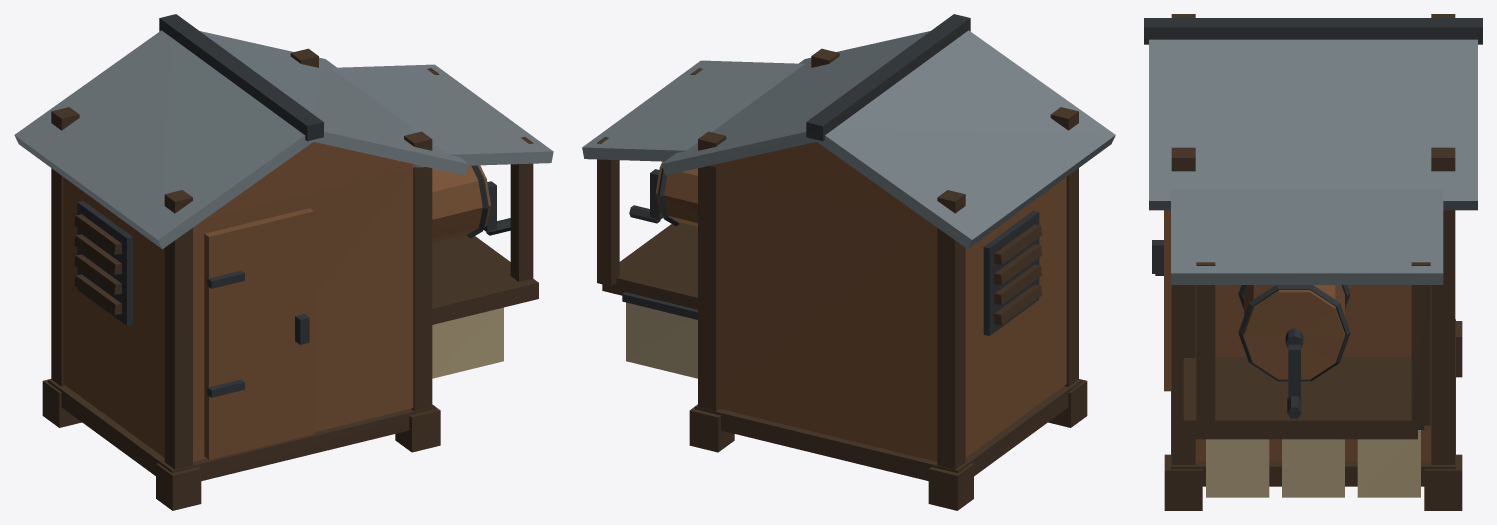
File: seed-house.source.glb
3 renders of one model, left to right at view 1: azimuth 30°, elevation 25°; view 2: azimuth 150°, elevation 25°; view 3: azimuth 270°, elevation 25°, orthographic. The views are drawn at different scales.
Parts seen in each view (by area): view 1: seed-house-left-roof-panel-mesh, seed-house-front-wall-mesh, seed-house-front-door-leaf-mesh, seed-house-left-wall-mesh, seed-house-service-awning-mesh, seed-house-right-roof-panel-mesh, seed-house-floor-mesh, seed-house-front-left-post-mesh, seed-house-loading-shelf-mesh, seed-house-front-gable-mesh, seed-house-front-right-post-mesh, seed-house-roof-ridge-mesh (+12 smaller); view 2: seed-house-rear-wall-mesh, seed-house-left-roof-panel-mesh, seed-house-left-wall-mesh, seed-house-service-awning-mesh, seed-house-right-roof-panel-mesh, seed-house-floor-mesh, seed-house-rear-left-post-mesh, seed-house-rear-gable-mesh, seed-house-loading-shelf-mesh, seed-house-rear-right-post-mesh, seed-house-roof-ridge-mesh, seed-house-seed-bin-1-mesh (+12 smaller); view 3: seed-house-right-roof-panel-mesh, seed-house-service-awning-mesh, seed-house-loading-shelf-mesh, seed-house-right-wall-mesh, seed-house-roof-ridge-mesh, seed-house-cleaner-drum-shell-mesh, seed-house-rear-right-post-mesh, seed-house-front-right-post-mesh, seed-house-seed-bin-1-mesh, seed-house-seed-bin-3-mesh, seed-house-seed-bin-2-mesh, seed-house-awning-support-rear-mesh (+9 smaller).
Part boxes in pixels (x1,y1,x2,y2): seed-house-left-roof-panel-mesh: (14,30,316,249); seed-house-front-wall-mesh: (193,168,413,461); seed-house-front-door-leaf-mesh: (204,208,314,459); seed-house-left-wall-mesh: (63,177,164,457); seed-house-service-awning-mesh: (331,64,553,167); seed-house-right-roof-panel-mesh: (200,31,468,175); seed-house-floor-mesh: (48,379,435,480); seed-house-front-left-post-mesh: (164,190,192,469); seed-house-loading-shelf-mesh: (432,235,538,324); seed-house-front-gable-mesh: (206,142,420,218); seed-house-front-right-post-mesh: (404,131,432,411); seed-house-roof-ridge-mesh: (159,14,323,141); seed-house-rear-wall-mesh: (717,168,937,461); seed-house-left-roof-panel-mesh: (813,30,1115,248); seed-house-left-wall-mesh: (965,177,1066,457); seed-house-service-awning-mesh: (582,60,804,161); seed-house-right-roof-panel-mesh: (661,31,930,175); seed-house-floor-mesh: (694,379,1082,480); seed-house-rear-left-post-mesh: (937,190,965,469); seed-house-rear-gable-mesh: (709,142,923,218); seed-house-loading-shelf-mesh: (602,223,697,309); seed-house-rear-right-post-mesh: (698,131,726,411); seed-house-roof-ridge-mesh: (806,14,970,141); seed-house-seed-bin-1-mesh: (626,302,697,378); seed-house-right-roof-panel-mesh: (1149,39,1477,210); seed-house-service-awning-mesh: (1171,189,1443,284); seed-house-loading-shelf-mesh: (1183,357,1417,439); seed-house-right-wall-mesh: (1195,285,1431,460); seed-house-roof-ridge-mesh: (1144,18,1482,44); seed-house-cleaner-drum-shell-mesh: (1244,285,1344,379); seed-house-rear-right-post-mesh: (1431,147,1455,464); seed-house-front-right-post-mesh: (1171,147,1195,464); seed-house-seed-bin-1-mesh: (1357,430,1420,497); seed-house-seed-bin-3-mesh: (1206,439,1269,497); seed-house-seed-bin-2-mesh: (1282,439,1344,497); seed-house-awning-support-rear-mesh: (1411,262,1430,425).
Size of the model in its own units: 3.51 by 2.88 by 2.14.
